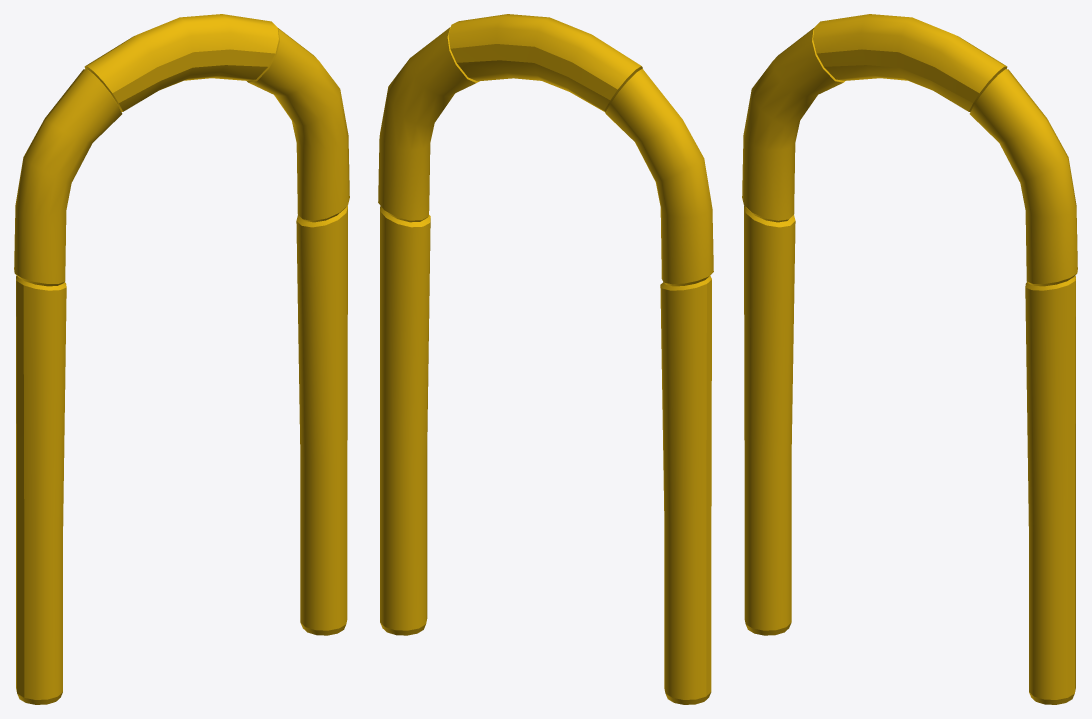
Rendered from Door_01.FBX.
3 views of the same model, side by side, from view 1: azimuth 30°, elevation 25°; view 2: azimuth 150°, elevation 25°; view 3: azimuth 330°, elevation 25° (orthographic).
Visible parts, largest first — view 1: Object001; view 2: Object001; view 3: Object001.
Part boxes in pixels (x1,y1,x2,y2): Object001: (14, 14, 349, 704); Object001: (378, 14, 713, 704); Object001: (742, 14, 1077, 704).
Size of the model in its own units: 56.52 by 105 by 7.28.
